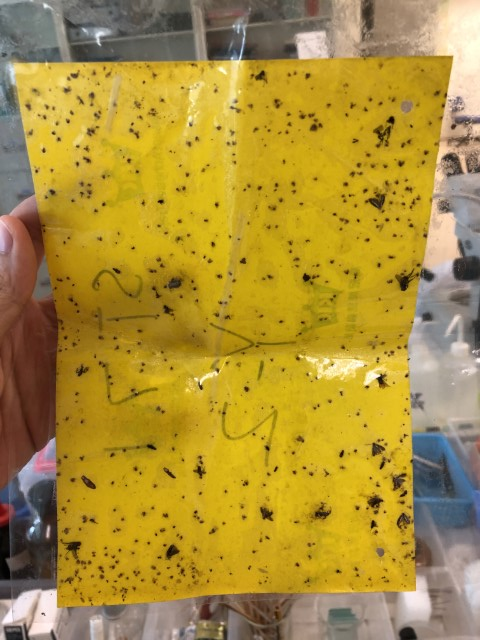DBM: (365, 439, 388, 457), (390, 471, 408, 491), (368, 194, 386, 212), (394, 512, 412, 528)
